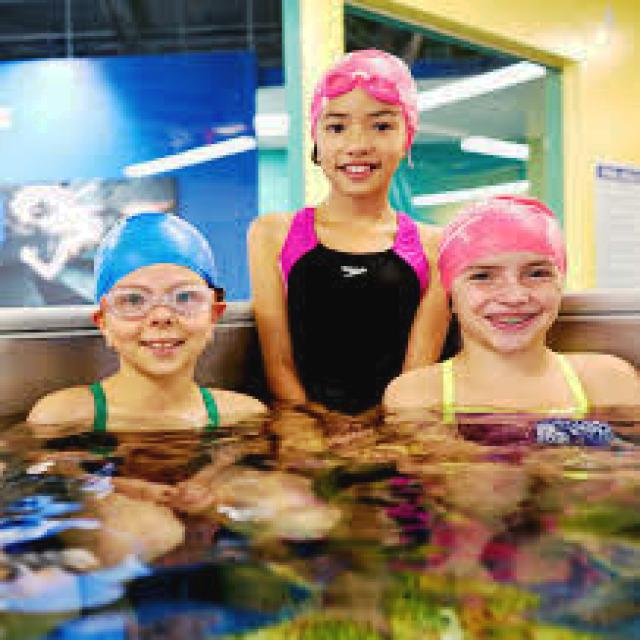TOPI: (428, 186, 572, 296), (85, 202, 217, 308), (302, 41, 420, 158)
